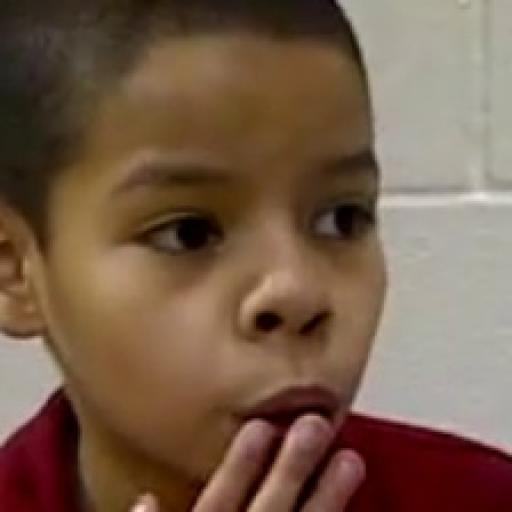Autism: (24, 10, 403, 470)
